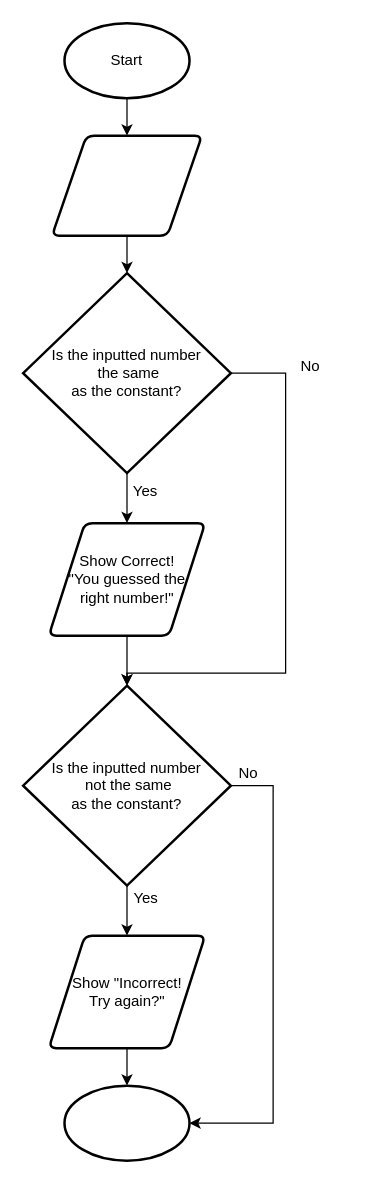
The diagram is 369 pixels wide and 1183 high, and some of its shapes have lost their labels. The shapes that lost their labels are listed below. From the top down, each one's box as (x1, y1, x2, y2) in pixels, then its label:
(50, 134, 203, 236): Get Inputted number
(63, 1084, 190, 1161): Stop
